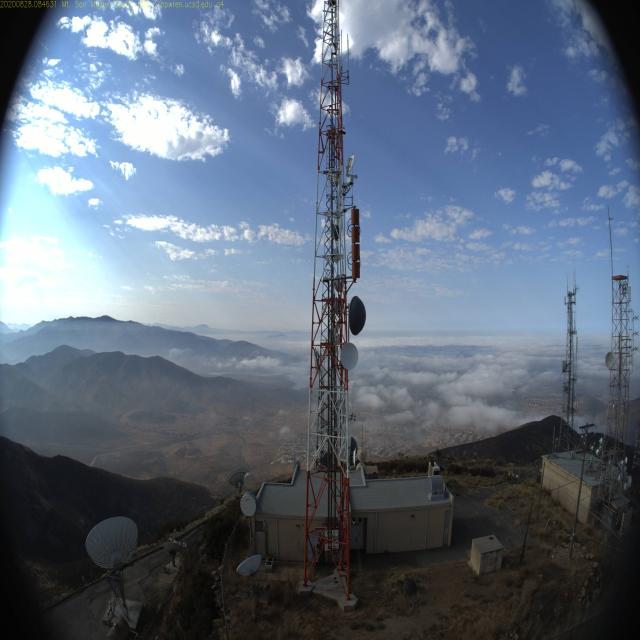smoke: (162, 338, 199, 364)
